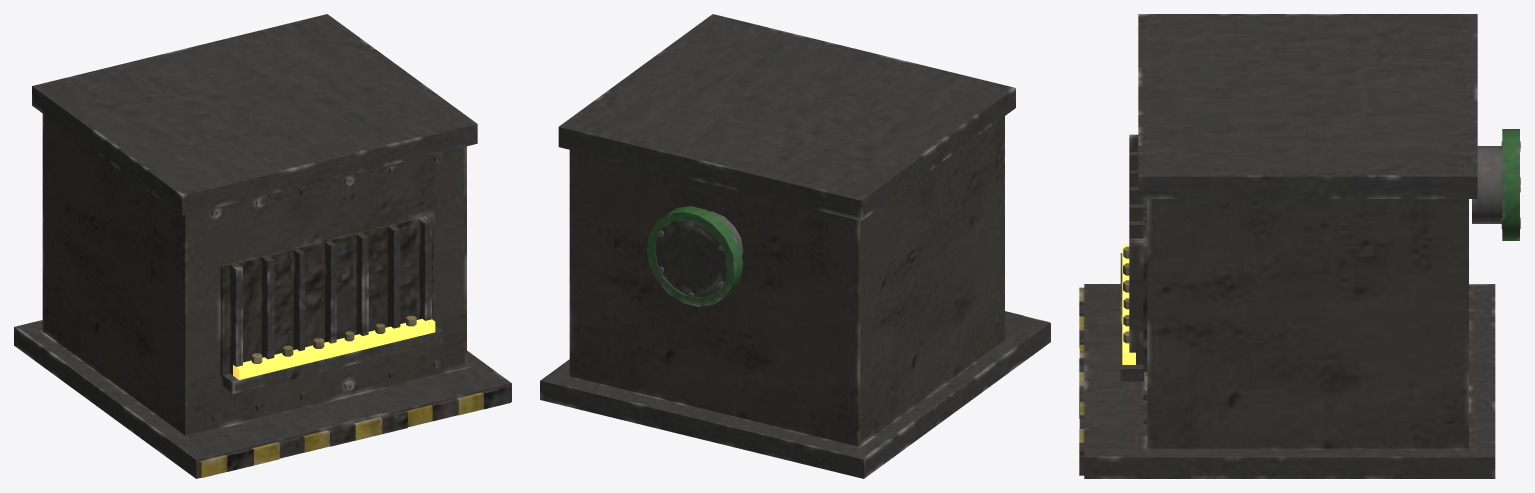
File: feGasBurner.glb
3 renders of one model, left to right at view 1: azimuth 30°, elevation 25°; view 2: azimuth 150°, elevation 25°; view 3: azimuth 270°, elevation 25°, orthographic. The views are drawn at different scales.
Parts seen in each view (by area): view 1: feGasBurner_Base; view 2: feGasBurner_Base; view 3: feGasBurner_Base.
Part boxes in pixels (bbox=[...]): feGasBurner_Base: bbox=[14, 14, 511, 478]; feGasBurner_Base: bbox=[540, 14, 1050, 478]; feGasBurner_Base: bbox=[1079, 14, 1520, 478].
Bounding box in the file's own units: 0.9012 × 0.7174 × 0.9675.
Materials: 2 (1 with a texture image).
